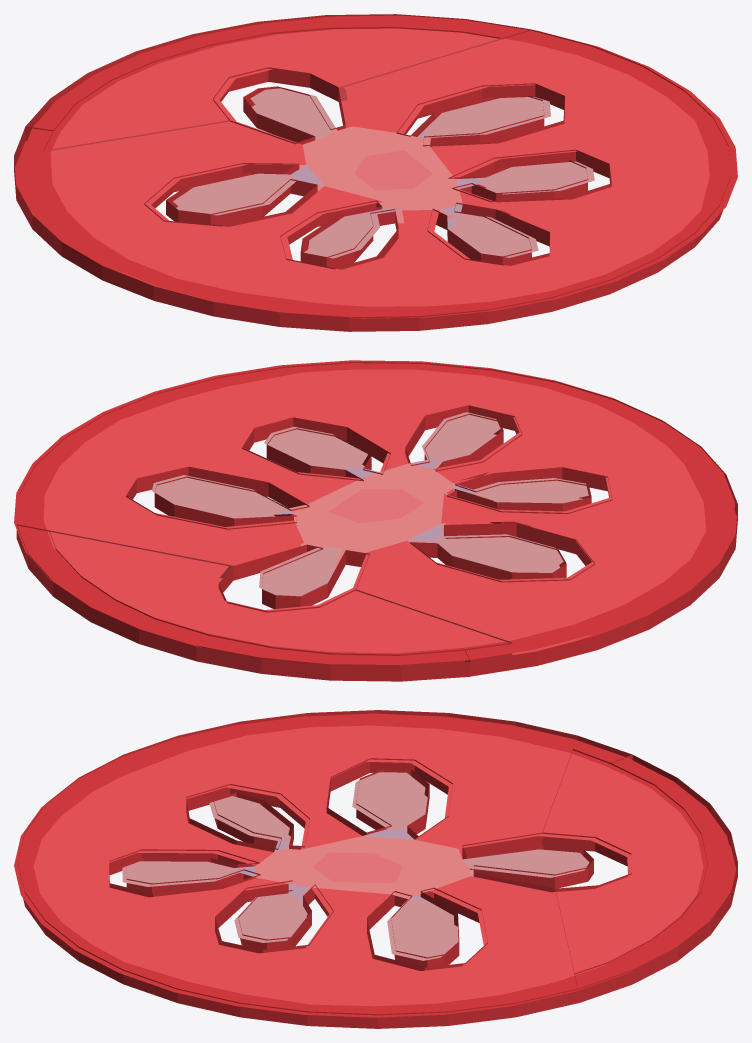
The model's file is Tomato.fbx.
3 views of the same model, one above another, from view 1: azimuth 30°, elevation 25°; view 2: azimuth 150°, elevation 25°; view 3: azimuth 270°, elevation 25° (orthographic).
Visible parts, largest first — view 1: Circle.001, Circle; view 2: Circle.001, Circle; view 3: Circle.001, Circle.
Boxes of the visible parts, <box> form: Circle.001: <box>21,15,737,318</box>; Circle: <box>14,14,730,331</box>; Circle.001: <box>14,360,734,664</box>; Circle: <box>16,362,737,681</box>; Circle.001: <box>14,713,733,1017</box>; Circle: <box>18,710,737,1028</box>.
Size of the model in its own units: 202 by 4.62 by 201.
